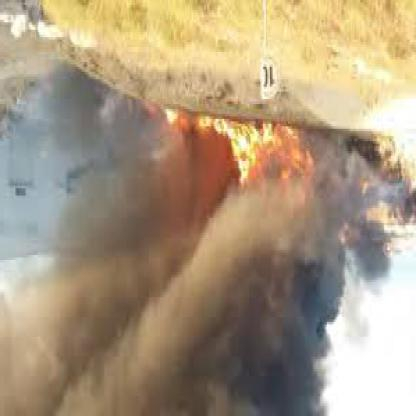Fire: (235, 124, 256, 178)
Smoke: (12, 252, 316, 410)
